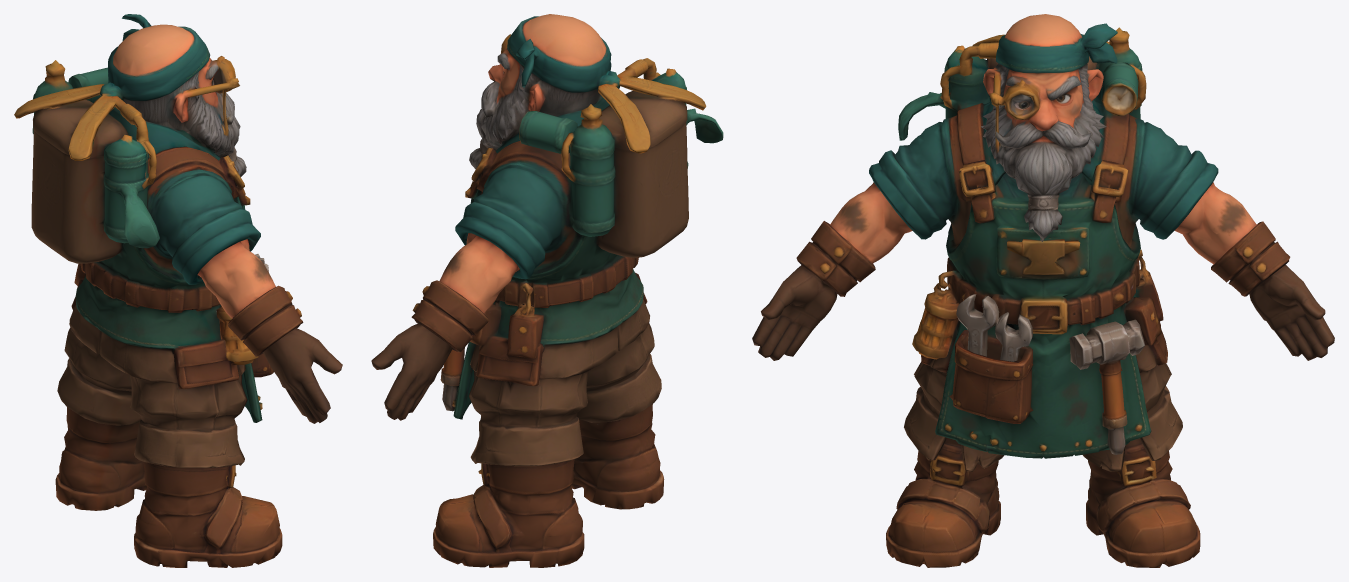
File: dwarf_engineer_b_raw.glb
3 views of the same model, side by side, from view 1: azimuth 30°, elevation 25°; view 2: azimuth 150°, elevation 25°; view 3: azimuth 270°, elevation 25° (orthographic). The views are drawn at different scales.
Visible parts, largest first — view 1: tripo_node_a2473338-3e99-4f94-b0d0-379b38a9f00f; view 2: tripo_node_a2473338-3e99-4f94-b0d0-379b38a9f00f; view 3: tripo_node_a2473338-3e99-4f94-b0d0-379b38a9f00f.
Boxes of the visible parts, x1=… form: tripo_node_a2473338-3e99-4f94-b0d0-379b38a9f00f: x1=14, y1=14, x2=342, y2=567; tripo_node_a2473338-3e99-4f94-b0d0-379b38a9f00f: x1=371, y1=14, x2=723, y2=567; tripo_node_a2473338-3e99-4f94-b0d0-379b38a9f00f: x1=752, y1=14, x2=1334, y2=567.
Bounding box in the file's own units: 0.4551 × 0.9778 × 1.
Materials: 1 (1 with a texture image).
